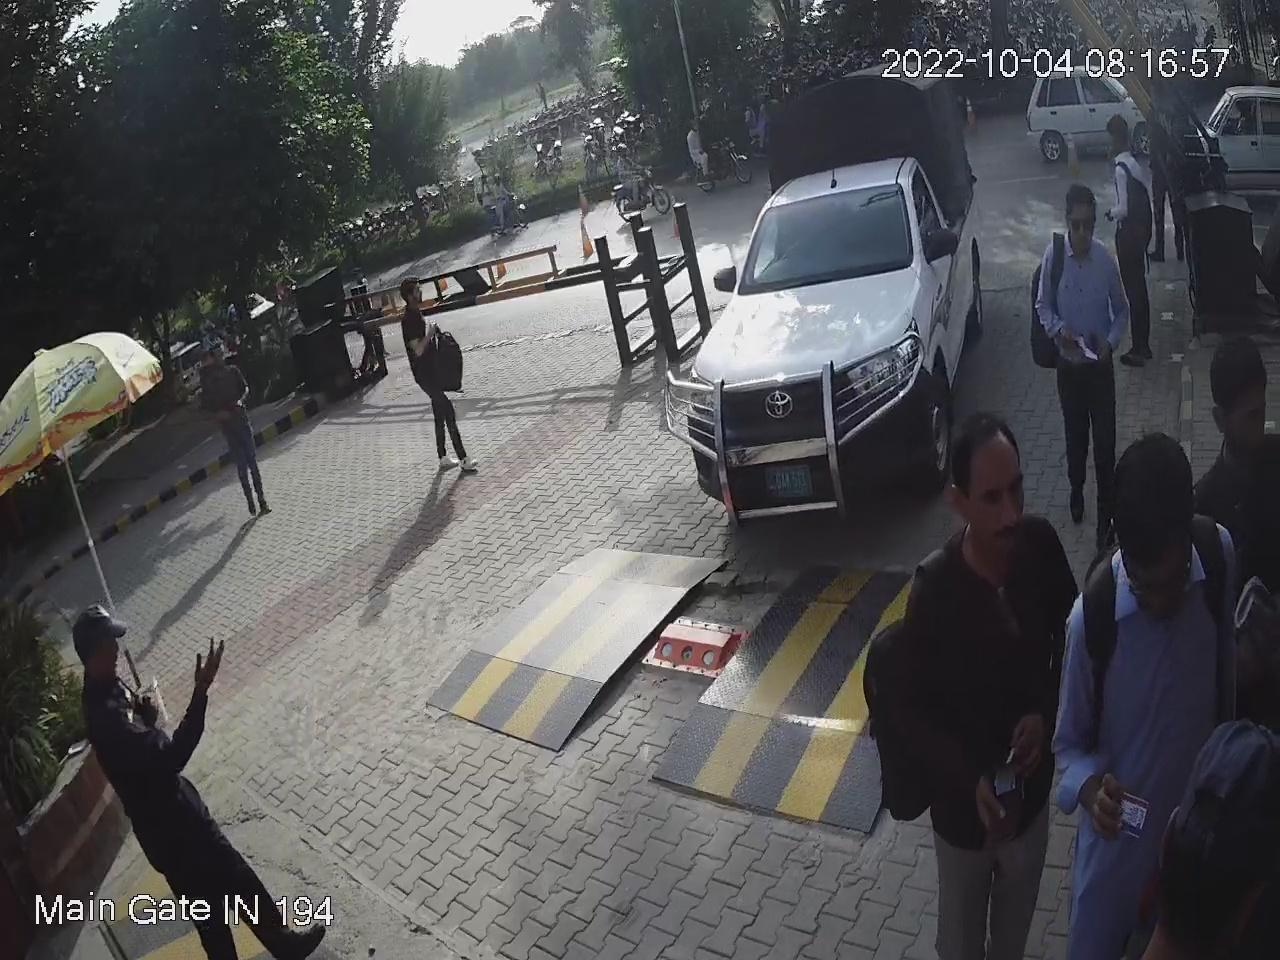windshield: (721, 185, 915, 308)
